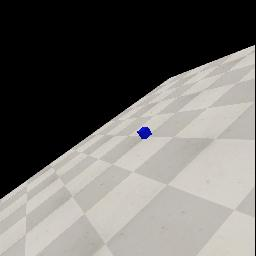box: (137, 127, 152, 139)
